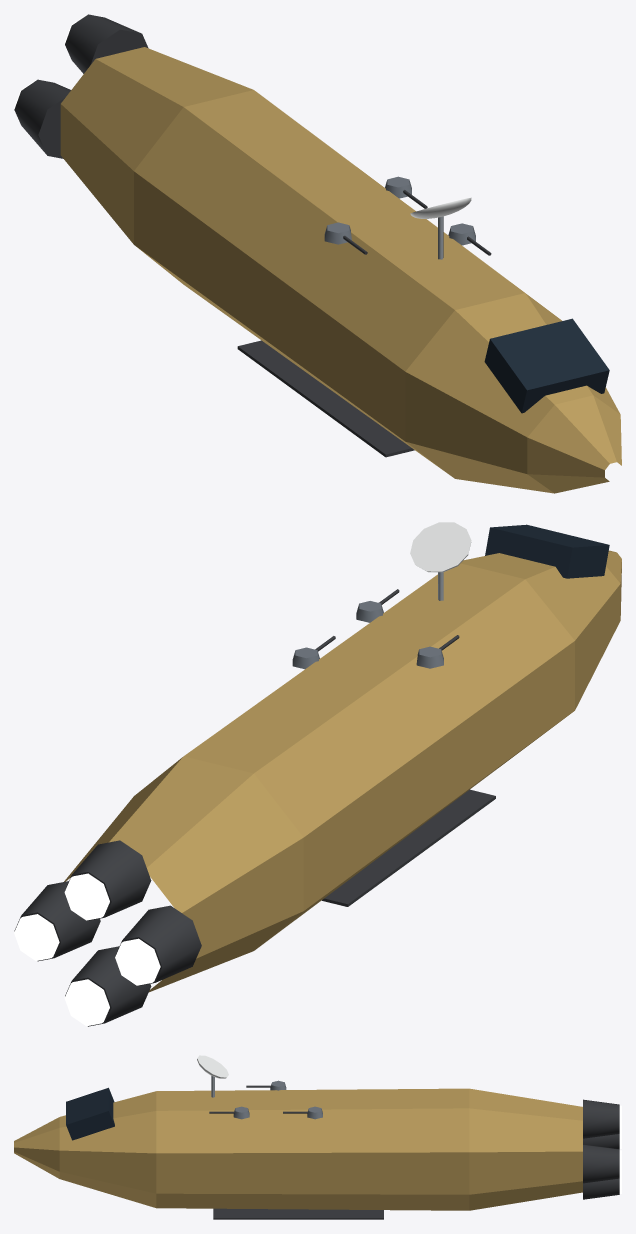
The model's file is space_ship_transport_mk7.glb.
The picture shows the model from 3 angles, top to bottom: view 1: azimuth 30°, elevation 25°; view 2: azimuth 150°, elevation 25°; view 3: azimuth 270°, elevation 25°; orthographic projection. The views are drawn at different scales.
Parts seen in each view (by area): view 1: body, hangar_door, engine_2, engine_1, antenna_0; view 2: body, engine_1, engine_2, hangar_door, engine_3, engine_0, antenna_0; view 3: body, hangar_door, engine_0, engine_1, engine_3, antenna_0, engine_2, turret_0, turret_2.
Boxes of the visible parts, left/top/right/bottom form: body: left=60, top=47, right=621, bottom=493; hangar_door: left=237, top=340, right=414, bottom=457; engine_2: left=14, top=79, right=70, bottom=158; engine_1: left=64, top=14, right=148, bottom=73; antenna_0: left=410, top=197, right=471, bottom=259; body: left=64, top=524, right=621, bottom=992; engine_1: left=64, top=840, right=151, bottom=920; engine_2: left=115, top=905, right=201, bottom=985; hangar_door: left=322, top=789, right=495, bottom=906; engine_3: left=64, top=946, right=151, bottom=1026; engine_0: left=14, top=881, right=100, bottom=961; antenna_0: left=410, top=522, right=471, bottom=600; body: left=14, top=1087, right=582, bottom=1210; hangar_door: left=213, top=1208, right=383, bottom=1219; engine_0: left=583, top=1144, right=621, bottom=1183; engine_1: left=583, top=1099, right=621, bottom=1138; engine_3: left=583, top=1177, right=621, bottom=1199; antenna_0: left=197, top=1055, right=228, bottom=1097; engine_2: left=583, top=1133, right=621, bottom=1149; turret_0: left=209, top=1106, right=249, bottom=1119; turret_2: left=283, top=1106, right=322, bottom=1119.
Size of what is drawn, in the model's own units: 6.15 by 8.75 by 33.08.
